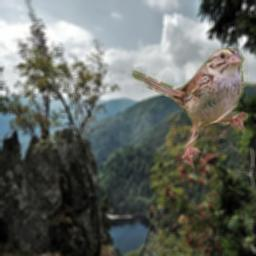Sparrow: (131, 48, 248, 170)
